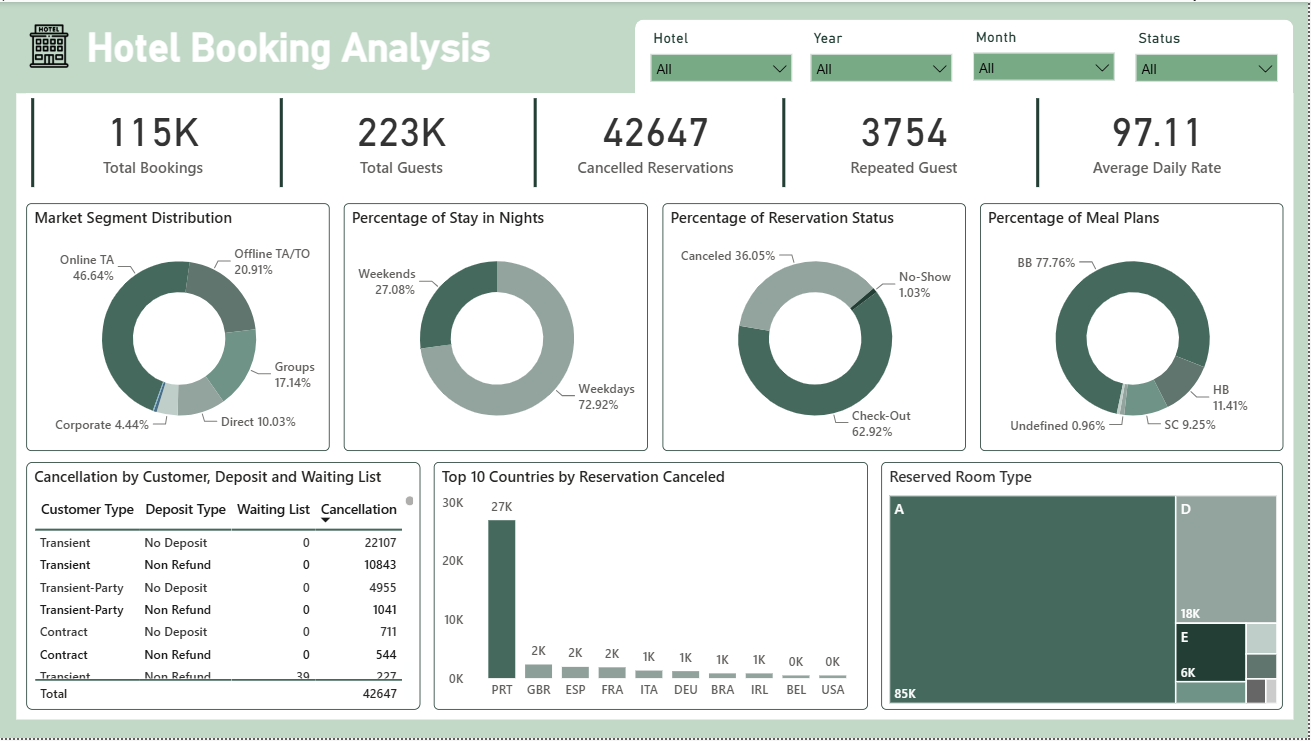

This screenshot's page, from the dashboard's own definition file:
{"tool":"powerbi","page":{"name":"Duplicate of Page 1","canvas":[1280,720],"ordinal":1},"visuals":[{"type":"shape","box":[621.1,16.9,644,83.2],"z":0},{"type":"shape","box":[15.7,89.2,1249.4,612.7],"z":1000},{"type":"slicer","fields":{"Values":["Hotel Booking Analysis.year"]},"box":[782.6,21.7,158.9,80.8],"z":2000},{"type":"slicer","fields":{"Values":["Hotel Booking Analysis.hotel"]},"box":[625.9,21.7,158.9,80.8],"z":3000},{"type":"slicer","fields":{"Values":["Hotel Booking Analysis.month name"]},"box":[941.6,20.5,158.9,79.6],"z":4000},{"type":"cardVisual","fields":{"Data":["Avg(Hotel Booking Analysis.adr)"]},"box":[1008.9,89.2,246.6,97.7],"z":4000,"group":"g1"},{"type":"image","box":[0,16.9,96.5,51.9],"z":5000},{"type":"cardVisual","fields":{"Data":["Hotel Booking Analysis.Total Bookings","Hotel Booking Analysis.Total Guests"]},"box":[25.3,89.2,491.8,97.7],"z":5000,"group":"g1"},{"type":"textbox","box":[60.3,16.9,445,62.7],"z":6000},{"type":"cardVisual","fields":{"Data":["Sum(Hotel Booking Analysis.is_canceled)","Sum(Hotel Booking Analysis.is_repeated_guest)"]},"box":[517.1,89.2,491.8,97.7],"z":6000,"group":"g1"},{"type":"group","id":"g1","title":"Group 1","box":[25.3,89.2,1230.2,97.7],"z":7000},{"type":"slicer","fields":{"Values":["Hotel Booking Analysis.Booking Status"]},"box":[1100.5,21.7,159.8,80.8],"z":8000},{"type":"donutChart","title":"Market Segment Distribution","fields":{"Y":["CountNonNull(Hotel Booking Analysis.reservation_status)"],"Category":["Hotel Booking Analysis.market_segment"]},"box":[25.3,196.6,297,242.4],"z":9000},{"type":"tableEx","title":"Cancellation by Customer, Deposit and Waiting List","fields":{"Values":["Hotel Booking Analysis.customer_type","Hotel Booking Analysis.deposit_type","Hotel Booking Analysis.days_in_waiting_list","CountNonNull(Hotel Booking Analysis.is_canceled)"]},"box":[25.3,449.8,385.9,242.4],"z":10000},{"type":"clusteredColumnChart","title":"Top 10 Countries by Reservation Canceled","fields":{"Category":["Hotel Booking Analysis.country"],"Y":["Sum(Hotel Booking Analysis.is_canceled)"]},"box":[424.5,449.8,424.5,242.4],"z":11000},{"type":"donutChart","title":"Percentage of Stay in Nights","fields":{"Y":["Sum(Hotel Booking Analysis.stays_in_week_nights)","Sum(Hotel Booking Analysis.stays_in_weekend_nights)"]},"box":[336.5,196.6,297.9,242.4],"z":12000},{"type":"treemap","title":"Reserved Room Type","fields":{"Group":["Hotel Booking Analysis.reserved_room_type"],"Values":["Hotel Booking Analysis.Total Bookings"]},"box":[862.3,449.8,393.2,242.4],"z":13000},{"type":"donutChart","title":"Percentage of Reservation Status","fields":{"Category":["Hotel Booking Analysis.reservation_status"],"Y":["Hotel Booking Analysis.Total Bookings"]},"box":[648,196.6,296.7,242.4],"z":14000},{"type":"donutChart","title":"Percentage of Meal Plans","fields":{"Category":["Hotel Booking Analysis.meal"],"Y":["Hotel Booking Analysis.Total Bookings"]},"box":[958.8,196.6,296.7,242.4],"z":15000}]}

Visuals, with their boxes in screenshot pixels (x1, y1, x2, y2), scaled from the page's 1280x720 canvas onto the 1311x741 screenshot:
shape: [636, 17, 1296, 103]
shape: [16, 92, 1296, 722]
slicer - Hotel Booking Analysis.year: [802, 22, 964, 105]
slicer - Hotel Booking Analysis.hotel: [641, 22, 804, 105]
slicer - Hotel Booking Analysis.month name: [964, 21, 1127, 103]
cardVisual - Avg(Hotel Booking Analysis.adr): [1033, 92, 1286, 192]
image: [0, 17, 99, 71]
cardVisual - Hotel Booking Analysis.Total Bookings x Hotel Booking Analysis.Total Guests: [26, 92, 530, 192]
textbox: [62, 17, 518, 82]
cardVisual - Sum(Hotel Booking Analysis.is_canceled) x Sum(Hotel Booking Analysis.is_repeated_guest): [530, 92, 1033, 192]
"Group 1" group: [26, 92, 1286, 192]
slicer - Hotel Booking Analysis.Booking Status: [1127, 22, 1291, 105]
"Market Segment Distribution" donutChart: [26, 202, 330, 452]
"Cancellation by Customer, Deposit and Waiting List" tableEx: [26, 463, 421, 712]
"Top 10 Countries by Reservation Canceled" clusteredColumnChart: [435, 463, 870, 712]
"Percentage of Stay in Nights" donutChart: [345, 202, 650, 452]
"Reserved Room Type" treemap: [883, 463, 1286, 712]
"Percentage of Reservation Status" donutChart: [664, 202, 968, 452]
"Percentage of Meal Plans" donutChart: [982, 202, 1286, 452]
